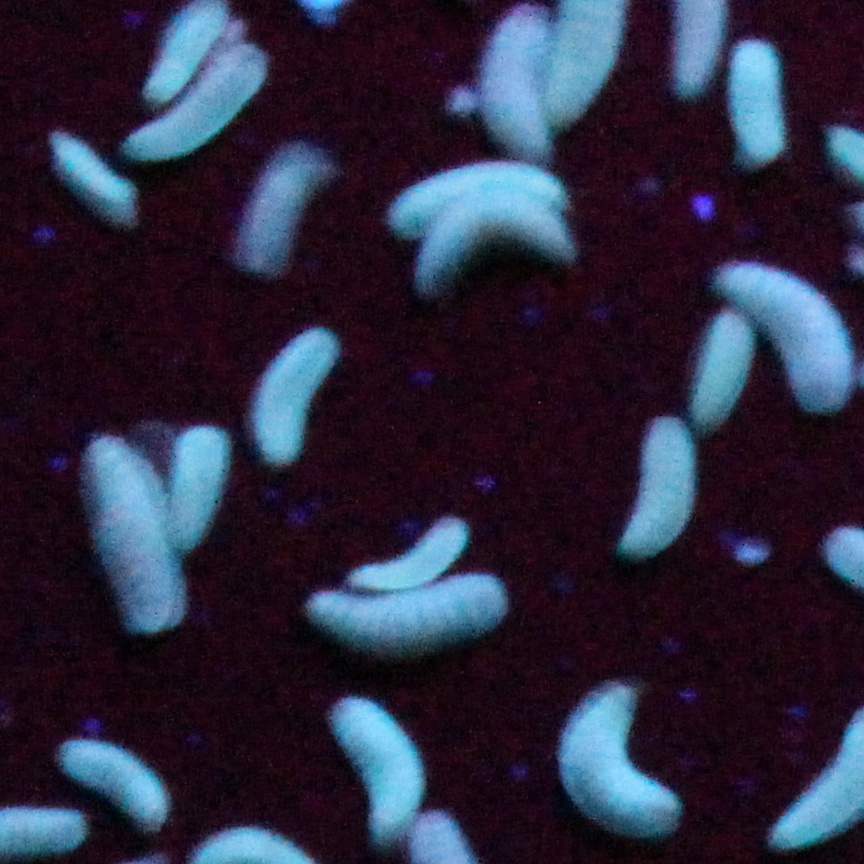larve: (42, 420, 182, 644), (542, 672, 694, 856), (704, 248, 864, 422), (105, 38, 286, 172), (390, 193, 607, 290), (301, 576, 518, 665), (316, 688, 430, 848), (224, 133, 341, 285), (233, 325, 344, 470), (607, 413, 701, 570), (378, 148, 584, 216), (335, 499, 473, 596), (53, 733, 176, 836), (472, 13, 553, 154), (721, 33, 798, 179), (35, 125, 141, 230), (680, 300, 758, 435), (167, 424, 226, 553)
